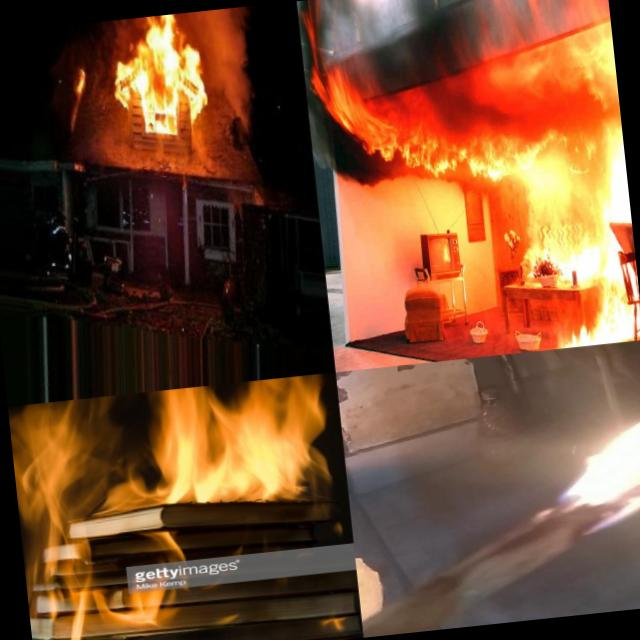fire: (12, 374, 350, 551), (314, 16, 626, 202), (520, 390, 640, 569), (522, 172, 640, 345), (109, 11, 210, 136), (68, 64, 88, 98)
smoke: (197, 5, 262, 136), (312, 130, 406, 194)
